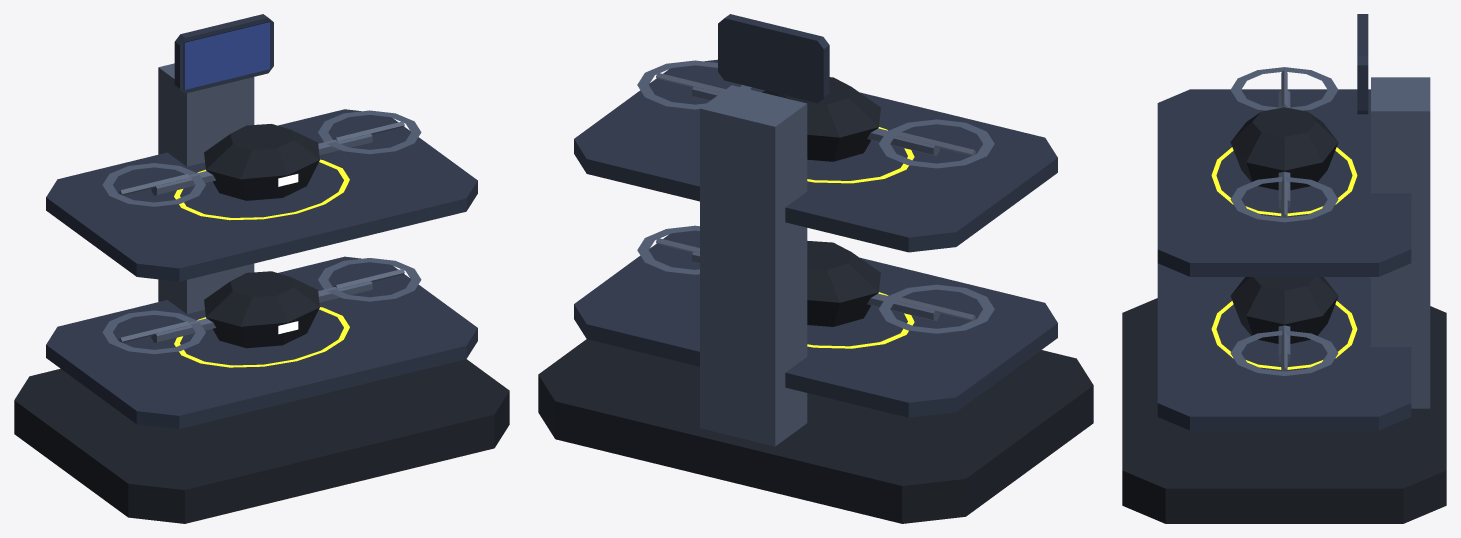
The model's file is res_drone_charging_dock.glb.
3 views of the same model, side by side, from view 1: azimuth 30°, elevation 25°; view 2: azimuth 150°, elevation 25°; view 3: azimuth 270°, elevation 25° (orthographic). The views are drawn at different scales.
Parts seen in each view (by area): view 1: landing_shelf, charging_plinth, dock_spine, print, charge_target, rotor_blade; view 2: landing_shelf, charging_plinth, dock_spine, rotor_blade, charge_target; view 3: landing_shelf, charging_plinth, dock_spine, charge_target, rotor_blade.
Part boxes in pixels (x1,y1,x2,y2): landing_shelf: (46,14,477,428); charging_plinth: (14,124,509,523); dock_spine: (102,63,421,354); print: (184,22,270,89); charge_target: (174,159,349,367); rotor_blade: (119,121,404,342); landing_shelf: (574,14,1057,417); charging_plinth: (538,77,1093,523); dock_spine: (637,60,994,446); rotor_blade: (656,72,975,320); charge_target: (807,127,914,348); landing_shelf: (1157,14,1411,430); charging_plinth: (1122,107,1446,523); dock_spine: (1230,67,1430,408); charge_target: (1211,147,1357,369); rotor_blade: (1281,70,1287,371).
Size of the model in its own units: 1.7 by 1.6 by 1.2.
